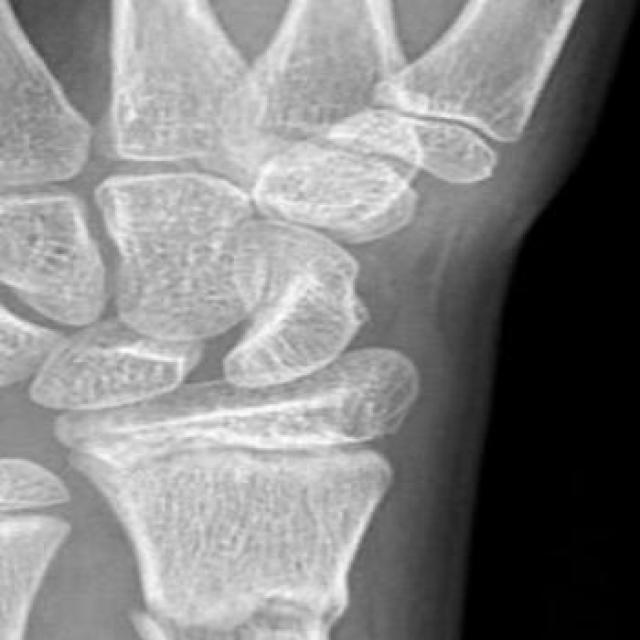Fracture: (113, 585, 380, 636)
